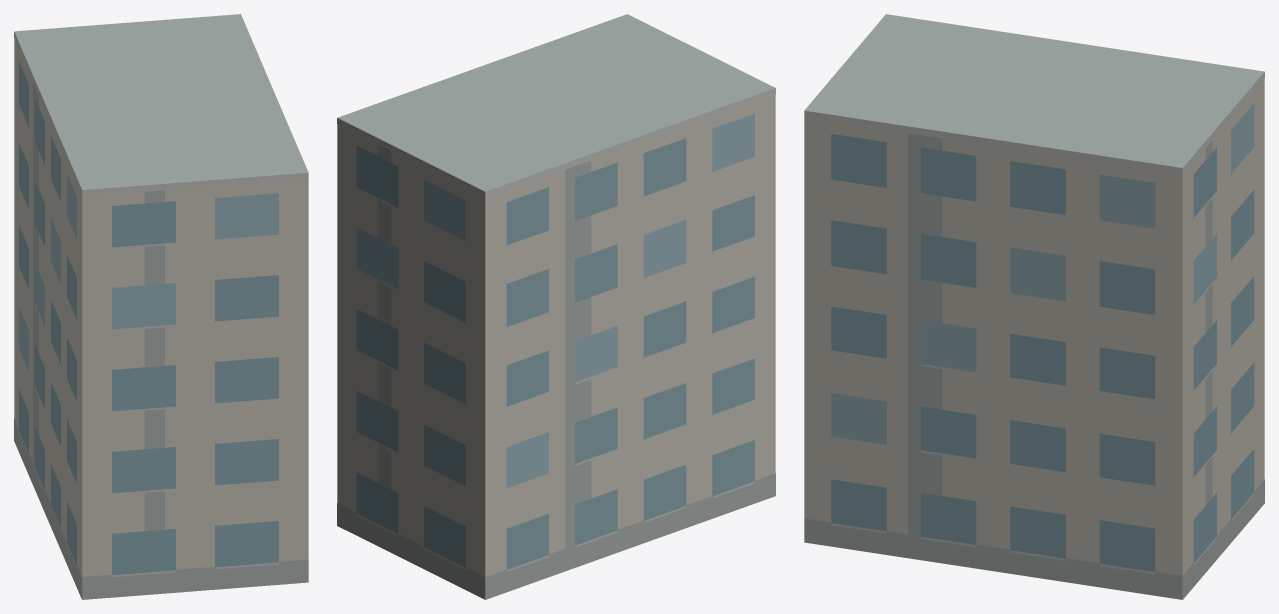
Rendered from residential-ab889f38-a23f-4f26-bffa-4bbdc9ea64ba.glb.
3 views of the same model, side by side, from view 1: azimuth 30°, elevation 25°; view 2: azimuth 150°, elevation 25°; view 3: azimuth 270°, elevation 25° (orthographic). The views are drawn at different scales.
Parts seen in each view (by area): view 1: residential-ab889f38-a23f-4f26-bffa-4bbdc9ea64ba.tmp; view 2: residential-ab889f38-a23f-4f26-bffa-4bbdc9ea64ba.tmp; view 3: residential-ab889f38-a23f-4f26-bffa-4bbdc9ea64ba.tmp.
Boxes of the visible parts, left/top/right/bottom form: residential-ab889f38-a23f-4f26-bffa-4bbdc9ea64ba.tmp: left=14, top=14, right=308, bottom=599; residential-ab889f38-a23f-4f26-bffa-4bbdc9ea64ba.tmp: left=337, top=14, right=775, bottom=599; residential-ab889f38-a23f-4f26-bffa-4bbdc9ea64ba.tmp: left=804, top=14, right=1264, bottom=599.
Size of the model in its own units: 11.68 by 15.25 by 14.75.
